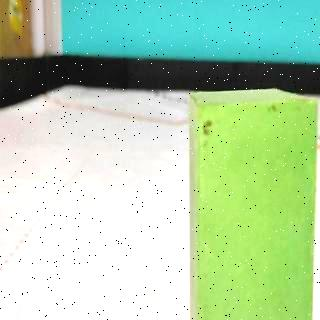greenbox: (190, 92, 316, 320)
